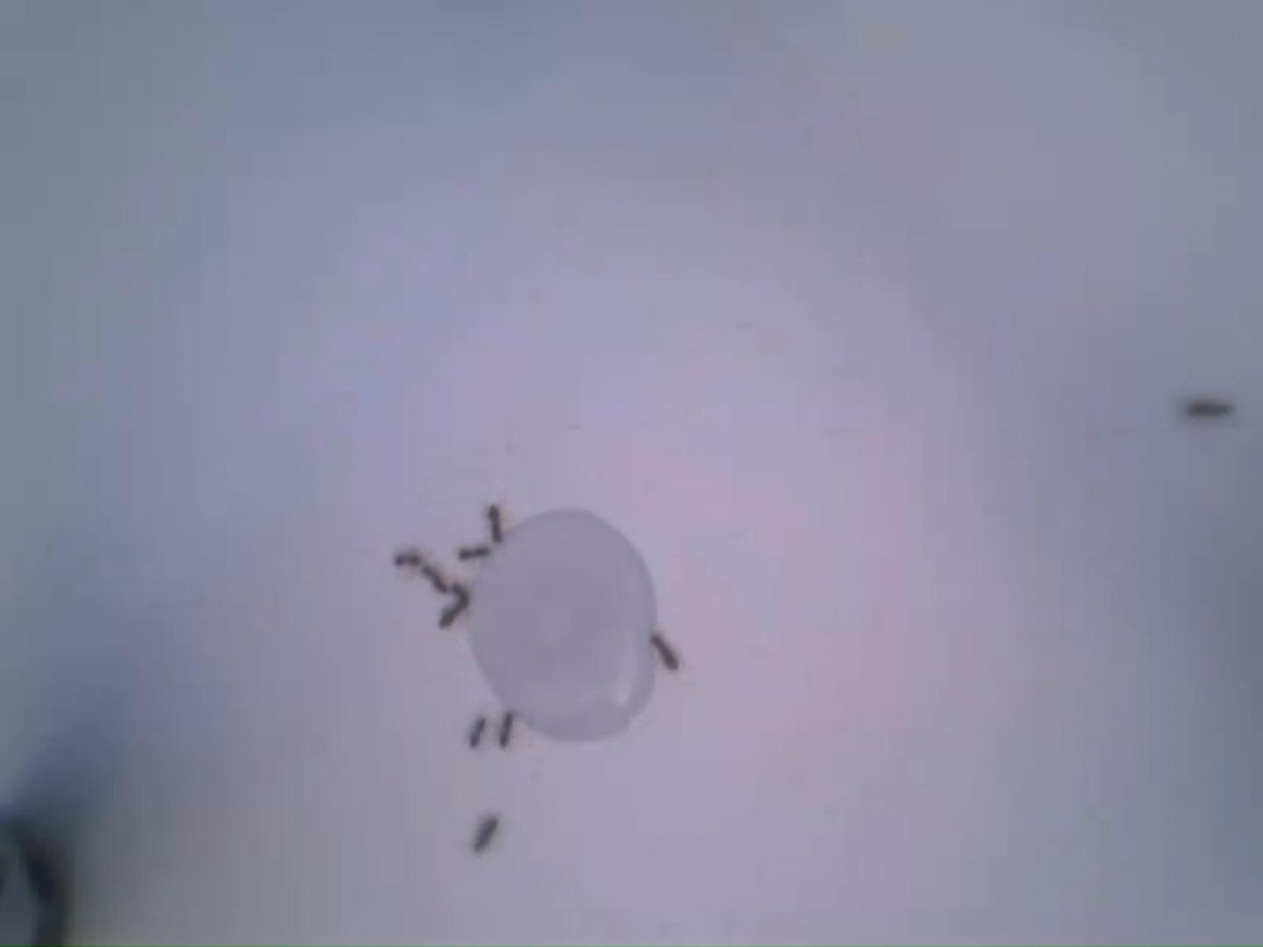Ant: (473, 812, 502, 855), (652, 634, 682, 673), (1188, 398, 1234, 421), (422, 563, 453, 597), (438, 599, 468, 631), (498, 711, 518, 749), (457, 543, 493, 564), (391, 549, 427, 570), (468, 713, 489, 749), (487, 505, 505, 543), (451, 583, 470, 602)
